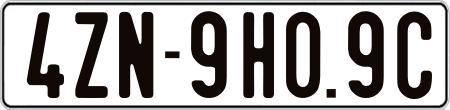0: (285, 12, 320, 104)
4: (27, 10, 66, 98)
9: (348, 8, 389, 99), (190, 8, 228, 97)
C: (397, 12, 433, 101)
H: (242, 11, 275, 97)
N: (119, 11, 154, 99)
Z: (73, 12, 109, 104)
